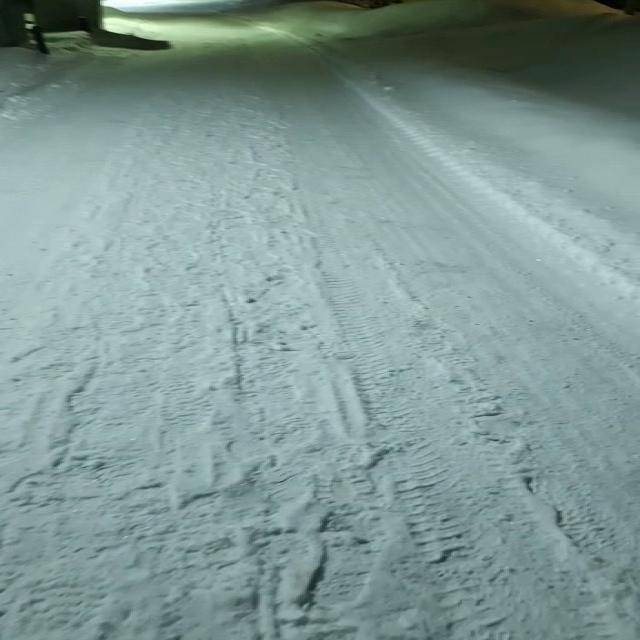path: (0, 0, 640, 640)
